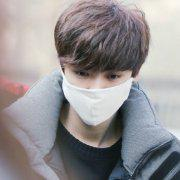WRONG: (63, 58, 130, 125)
